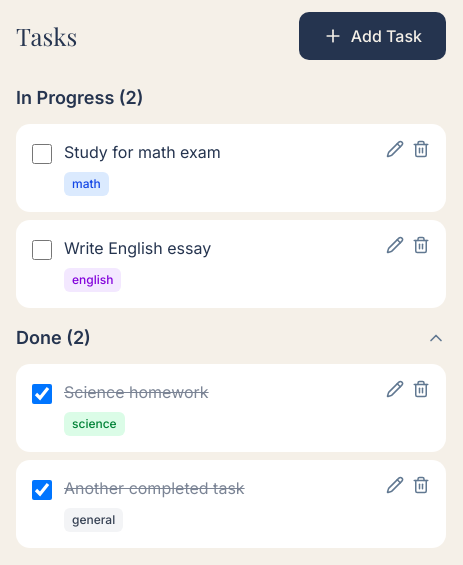
Test case: TodoClient › 32.5 Test collapsible sections › should show correct count when done section is collapsed
# Collapse done section
Click the button "Done (2)".
click(44, 338)  # box [16,324,446,352]
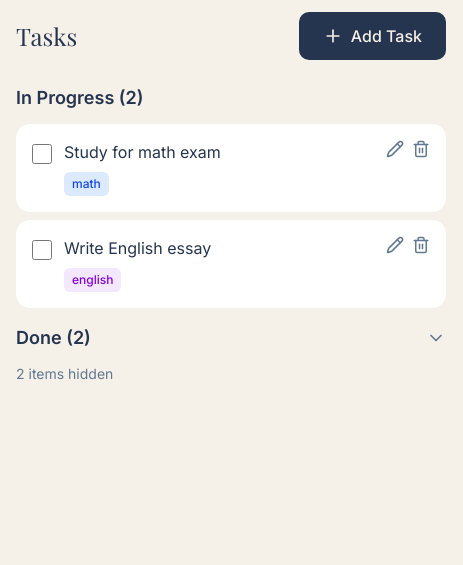
Check: the text "2 items hidden" is shown, box [16,365,113,382]
